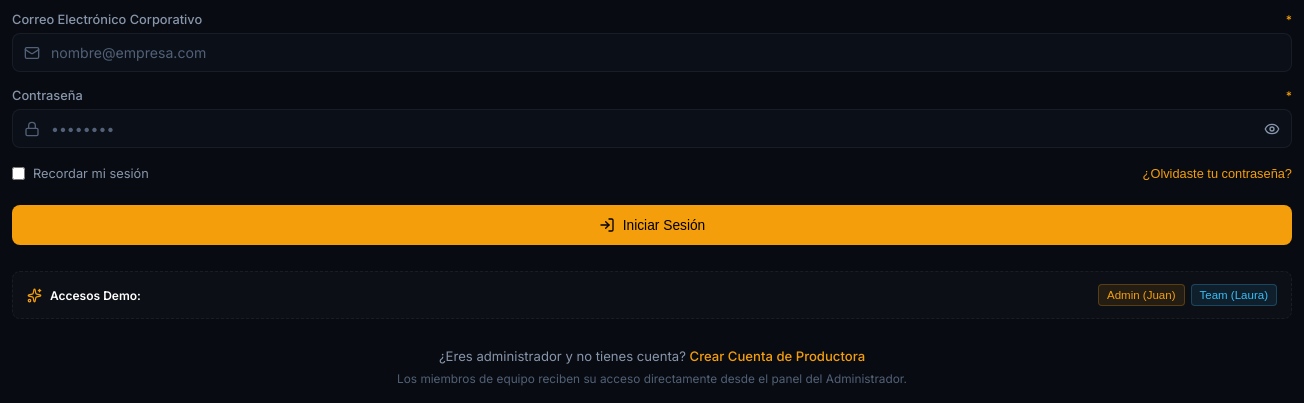
Test: Auth UI Components Suite › LoginForm › debe completar credenciales demo al hacer clic en Admin o Team
Click the button "Admin (Juan)".
click(1141, 295)  # box [1098,284,1184,306]
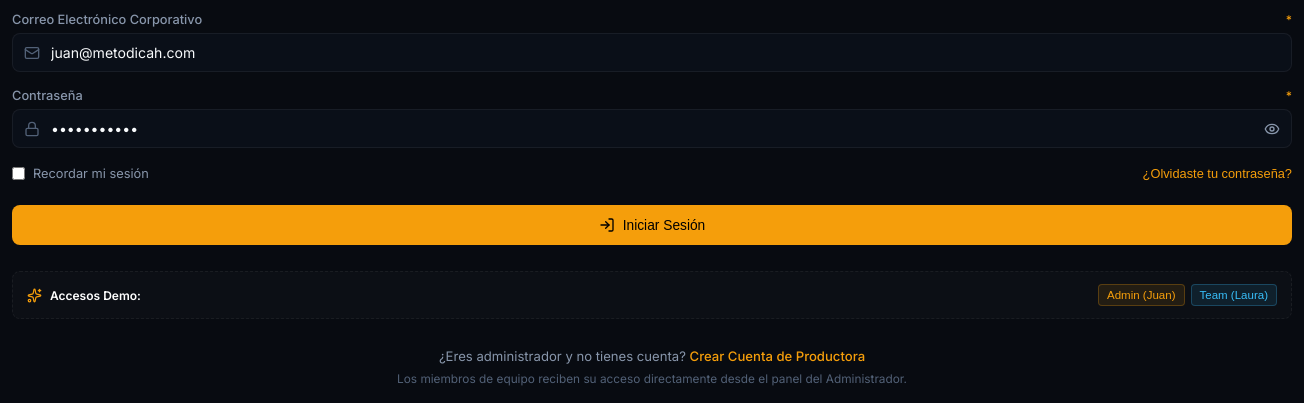
Check: the field labelled "Correo Electrónico Corporativo *" holds "juan@metodicah.com", box [12,33,1292,72]
Click the button "Team (Laura)".
click(1234, 295)  # box [1190,284,1277,306]
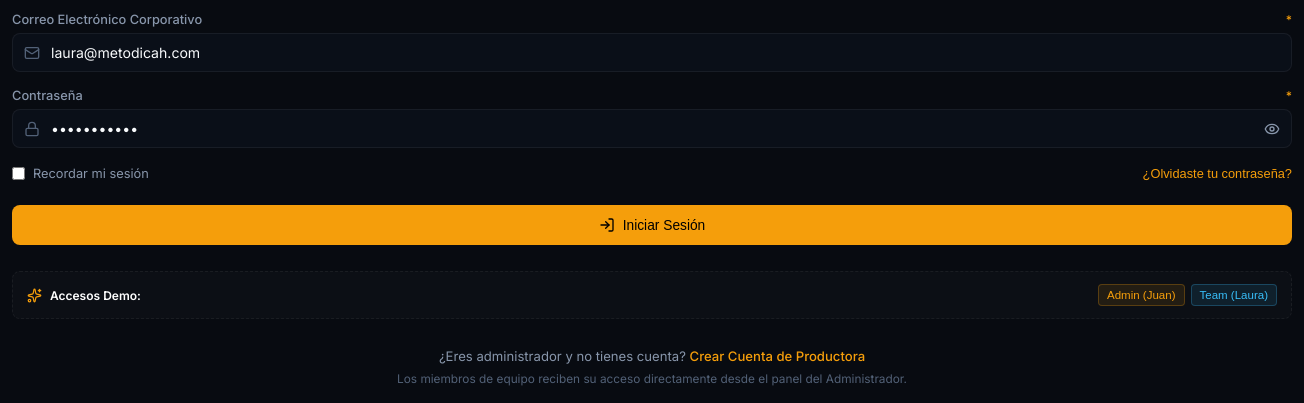
Check: the field labelled "Correo Electrónico Corporativo *" holds "laura@metodicah.com", box [12,33,1292,72]
